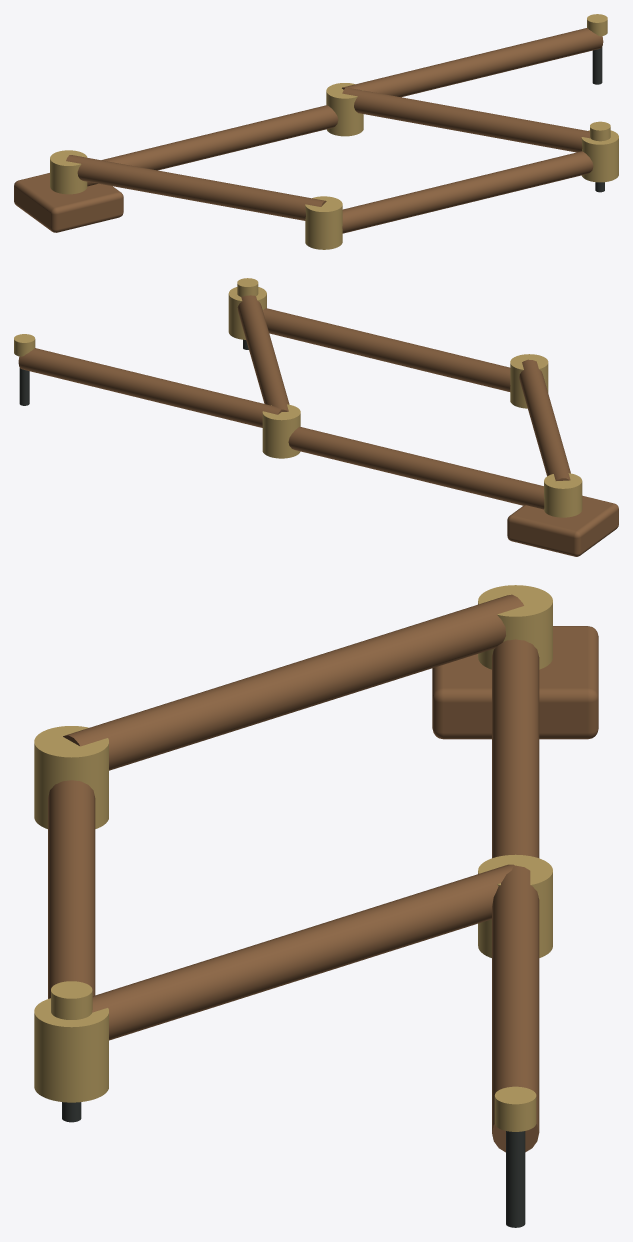
Rendered from fantasy-cartographers-map-printing-guild-map-pantograp-ad704cce__32235.glb.
3 renders of one model, top to bottom at view 1: azimuth 30°, elevation 25°; view 2: azimuth 150°, elevation 25°; view 3: azimuth 270°, elevation 25°, orthographic. The views are drawn at different scales.
Visible parts, largest first — view 1: map-pantograph; view 2: map-pantograph; view 3: map-pantograph.
Part boxes in pixels (x1,y1,x2,y2): map-pantograph: (14, 14, 618, 249); map-pantograph: (14, 278, 618, 556); map-pantograph: (34, 585, 598, 1227).
Size of the model in its own units: 0.955 by 0.102 by 0.407.
